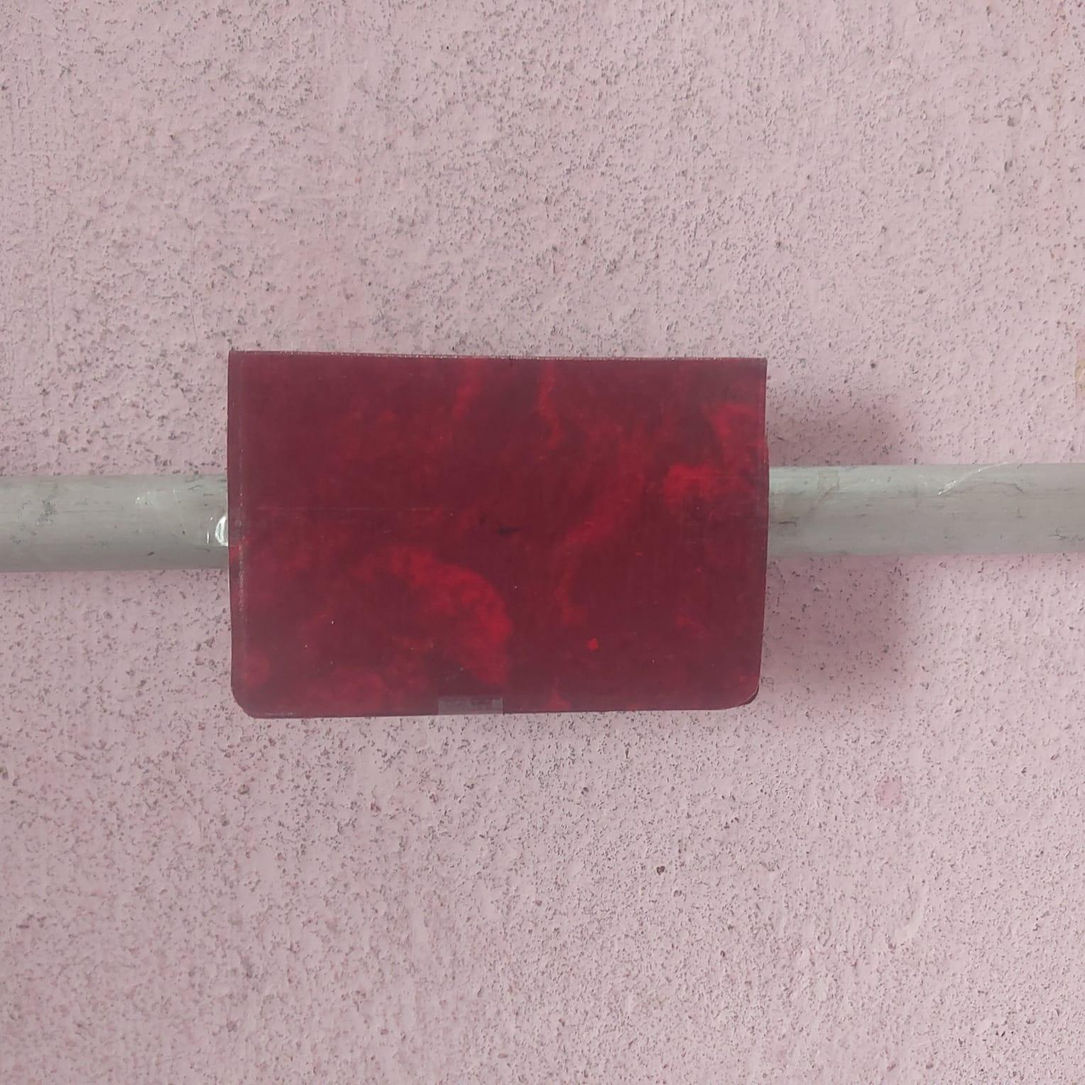wallet: (224, 331, 779, 729)
